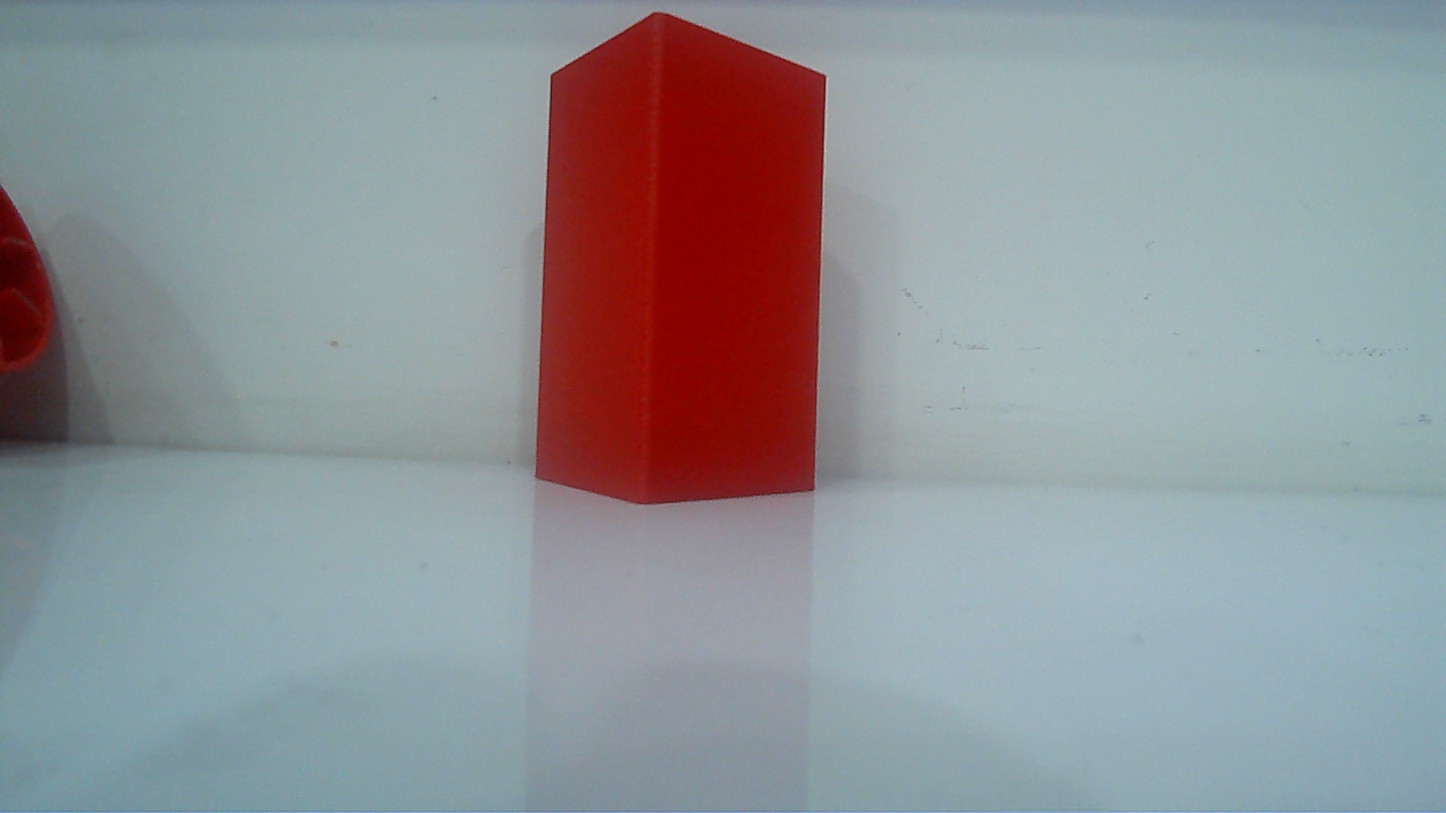red: (522, 14, 844, 519)
